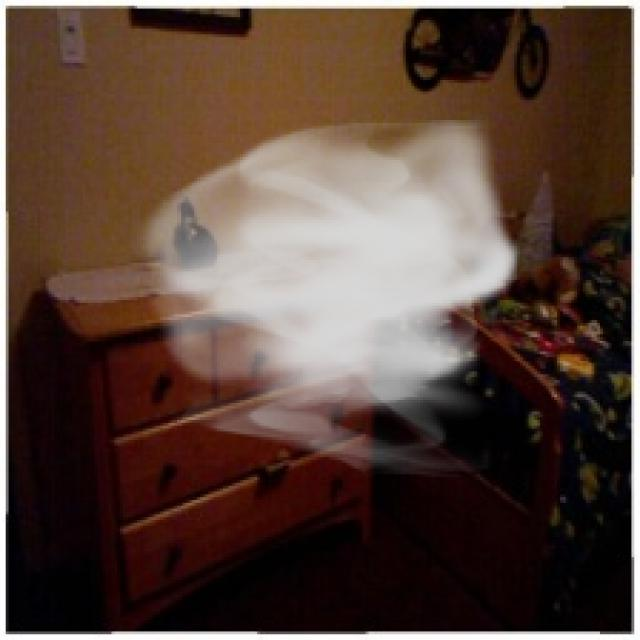smoke: (128, 109, 523, 480)
